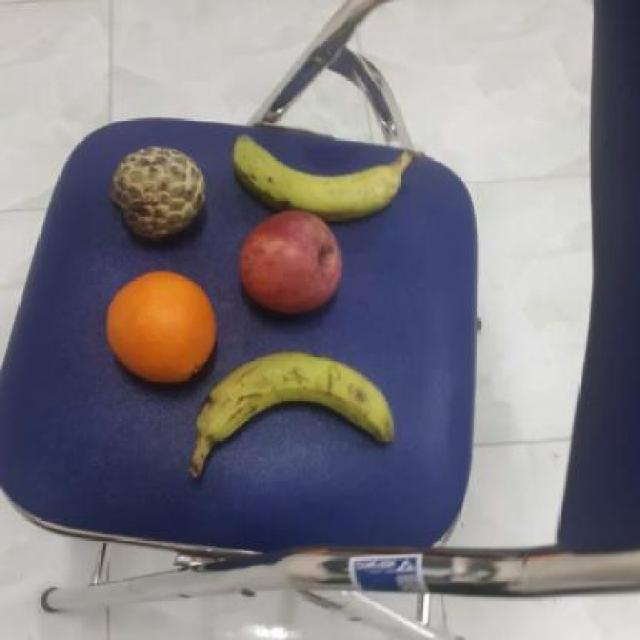apple: (233, 206, 347, 316)
banana: (184, 351, 401, 451), (221, 132, 407, 220)
oren: (98, 264, 220, 384)
sugar apple: (102, 138, 210, 242)
